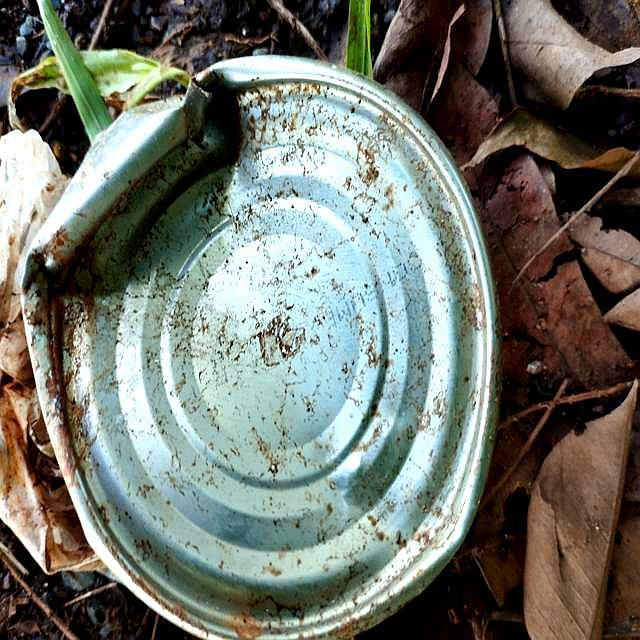Non-biodegradable: (22, 59, 499, 640)
